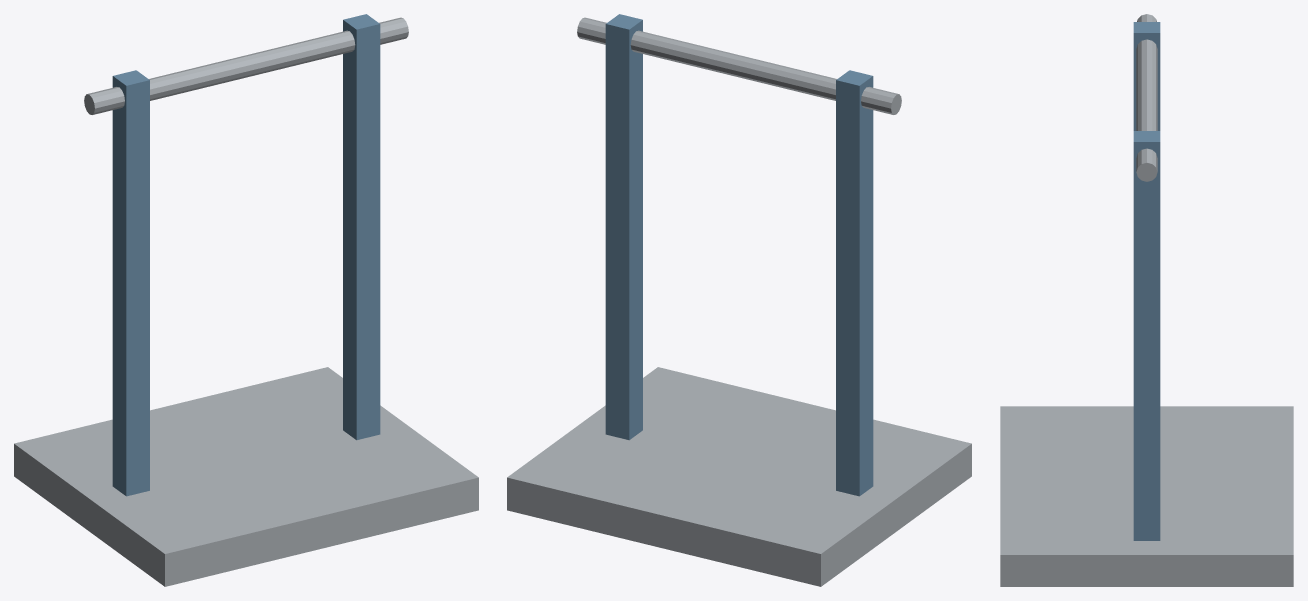
The model's file is wheelBal.glb.
3 renders of one model, left to right at view 1: azimuth 30°, elevation 25°; view 2: azimuth 150°, elevation 25°; view 3: azimuth 270°, elevation 25°, orthographic. The views are drawn at different scales.
Parts seen in each view (by area): view 1: wheel-balancer; view 2: wheel-balancer; view 3: wheel-balancer.
Part boxes in pixels (x1,y1,x2,y2): wheel-balancer: [14, 14, 478, 586]; wheel-balancer: [507, 14, 971, 586]; wheel-balancer: [1000, 14, 1293, 586].
Size of the model in its own units: 0.6001 by 0.81 by 0.5.
